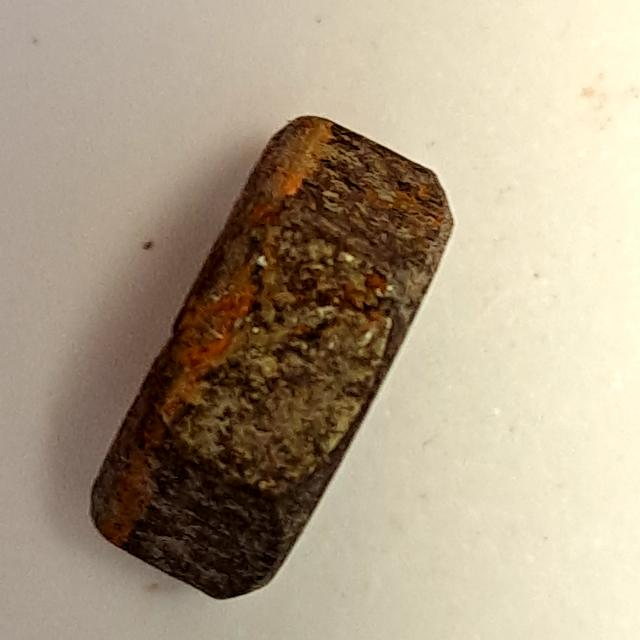Side_Rust: (75, 106, 465, 609)
